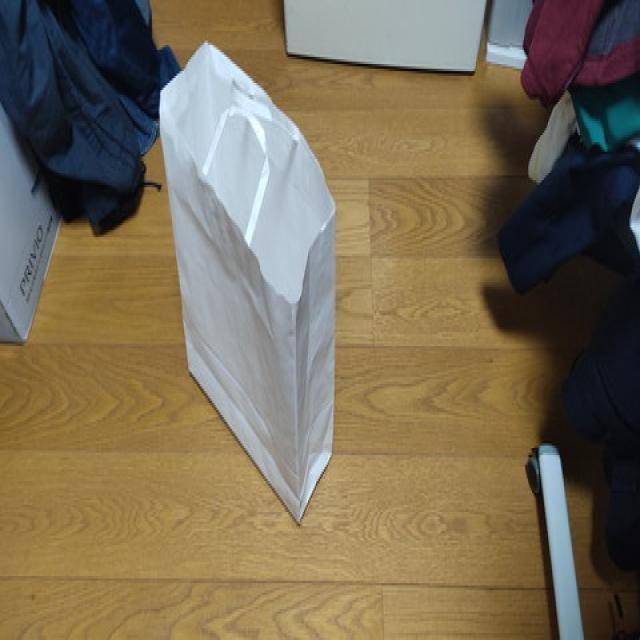paper bag: (156, 36, 338, 538)
